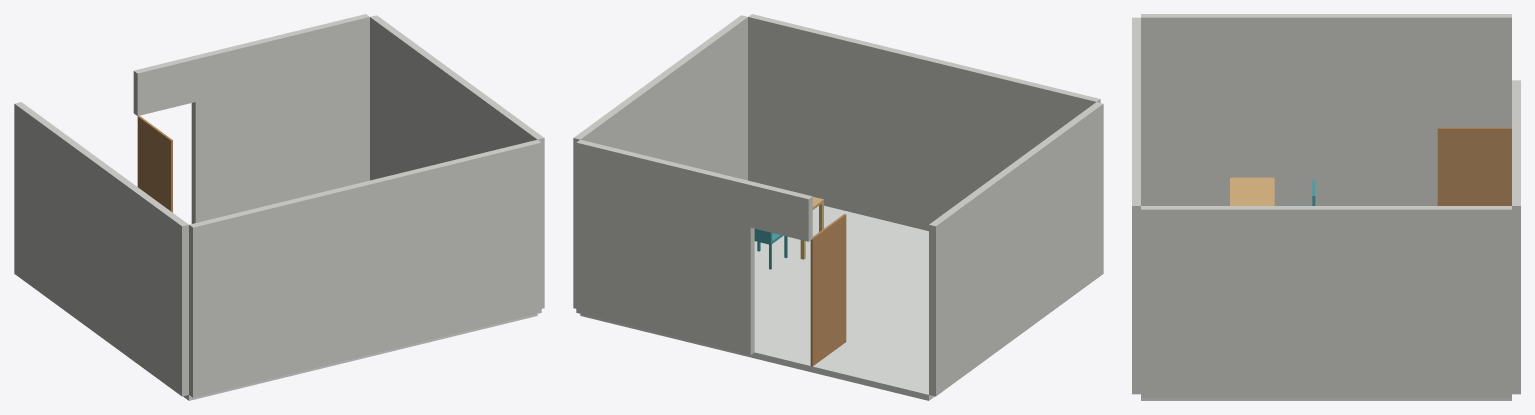
Rendered from duplicate-active-scene-node-reference.glb.
The picture shows the model from 3 angles, left to right: view 1: azimuth 30°, elevation 25°; view 2: azimuth 150°, elevation 25°; view 3: azimuth 270°, elevation 25°; orthographic projection. The views are drawn at different scales.
Parts seen in each view (by area): view 1: room:north:full, room:west:full, room:south:high, room:east:full, room:south:lintel, door:leaf, room:floor; view 2: room:north:full, room:south:high, room:west:full, room:floor, room:east:full, door:leaf, room:south:lintel; view 3: room:east:full, room:west:full, door:leaf, room:north:full, room:south:high, manual-a:table:top, room:floor.
Boxes of the visible parts, box(x1,y1,x2,y2) form: room:north:full: box(189, 139, 541, 397); room:west:full: box(14, 102, 188, 396); room:south:high: box(191, 14, 369, 223); room:east:full: box(370, 15, 544, 308); room:south:lintel: box(133, 56, 195, 115); door:leaf: box(137, 115, 172, 212); room:floor: box(183, 314, 537, 400); room:north:full: box(748, 14, 1100, 231); room:south:high: box(576, 139, 754, 355); room:west:full: box(929, 102, 1103, 396); room:floor: box(580, 205, 934, 400); room:east:full: box(573, 15, 747, 308); door:leaf: box(810, 214, 846, 366); room:south:lintel: box(750, 182, 812, 241); room:east:full: box(1141, 206, 1511, 397); room:west:full: box(1141, 14, 1511, 205); door:leaf: box(1437, 127, 1511, 205); room:north:full: box(1132, 17, 1140, 394); room:south:high: box(1512, 112, 1520, 394); manual-a:table:top: box(1230, 177, 1274, 205); room:floor: box(1141, 398, 1511, 400).
Bounding box in the file's own units: 6.24 × 2.9 × 5.24.
